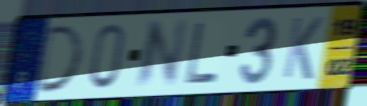0: (88, 22, 127, 92)
3: (237, 14, 278, 86)
D: (33, 22, 86, 96)
K: (280, 15, 326, 82)
L: (184, 20, 220, 85)
N: (131, 17, 191, 93)
